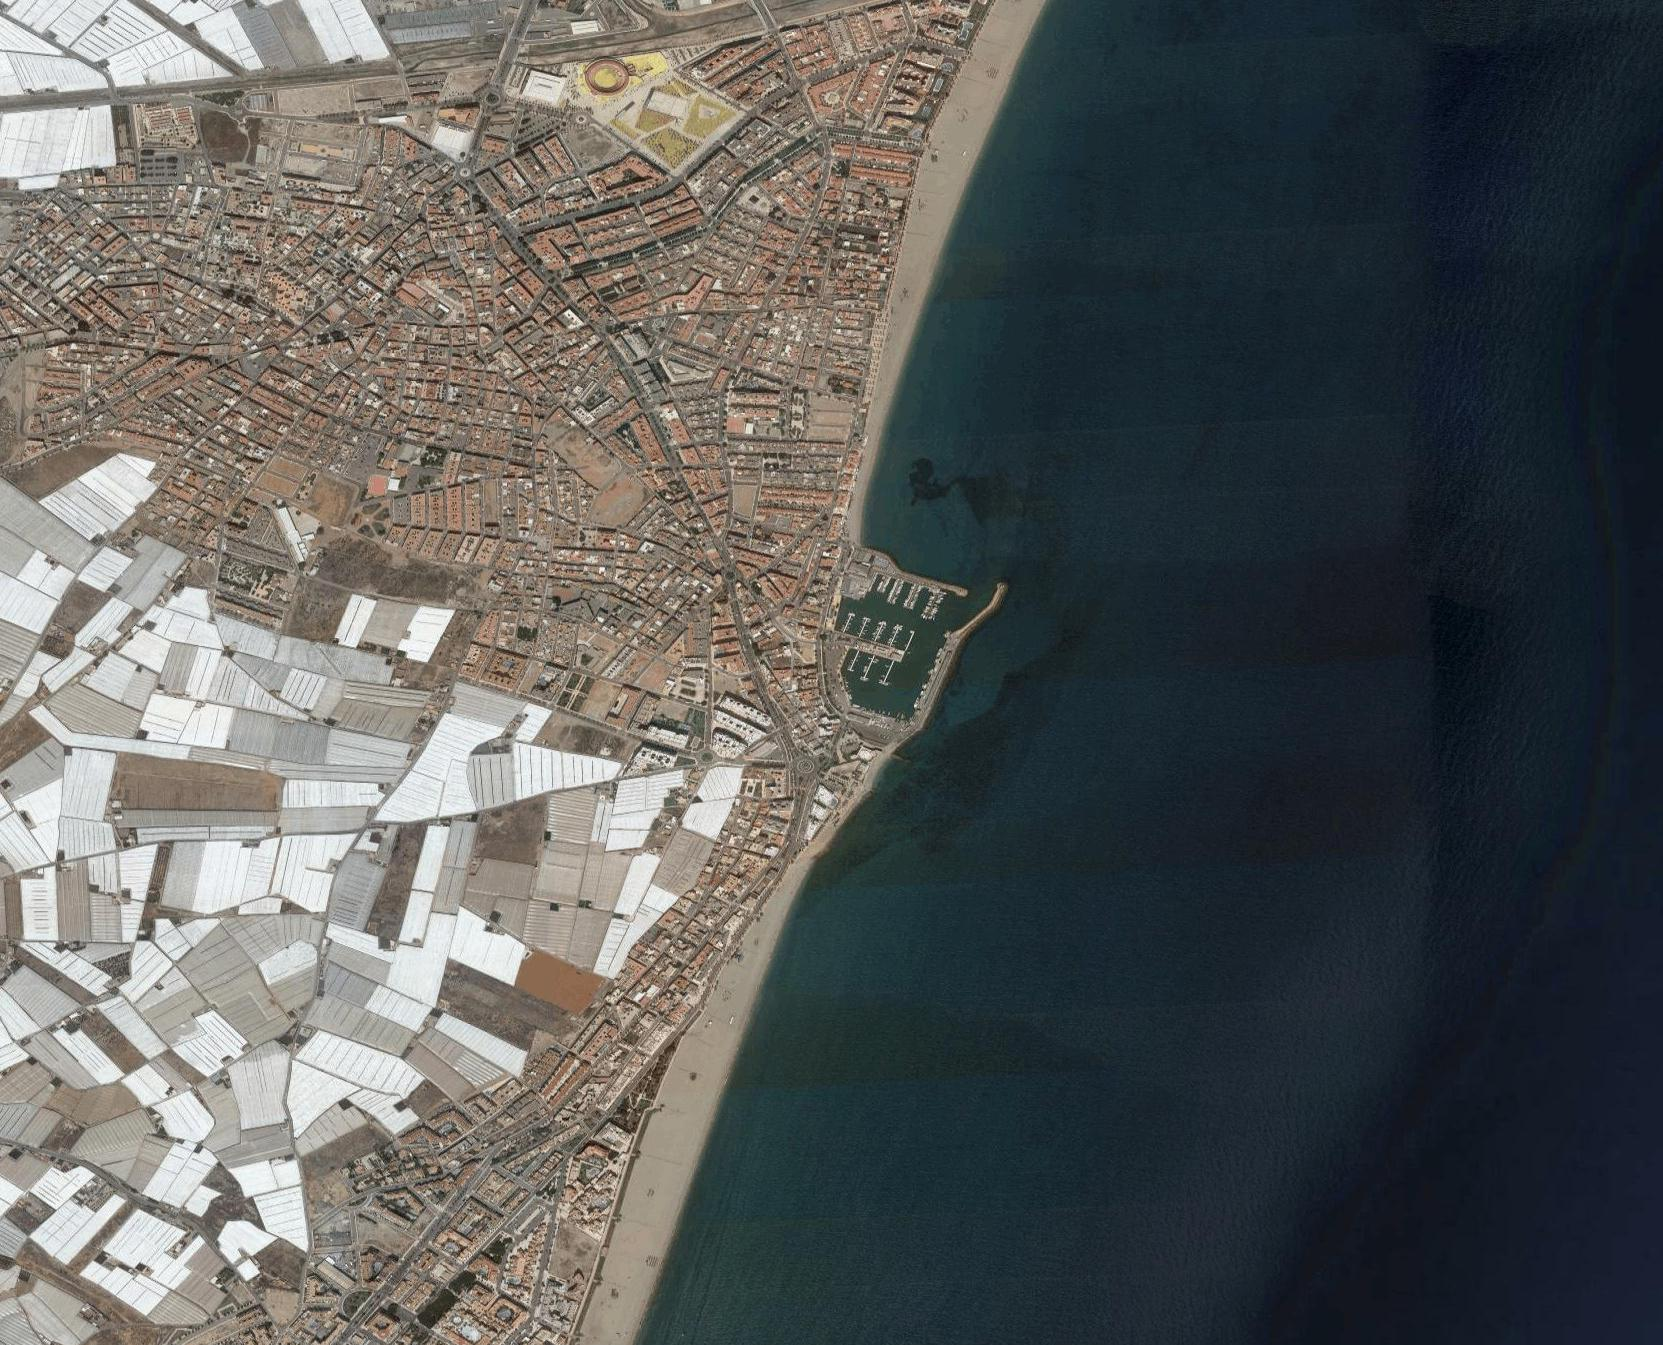harbor: (804, 508, 1026, 775)
motorway: (1, 80, 246, 106), (246, 60, 388, 92)
